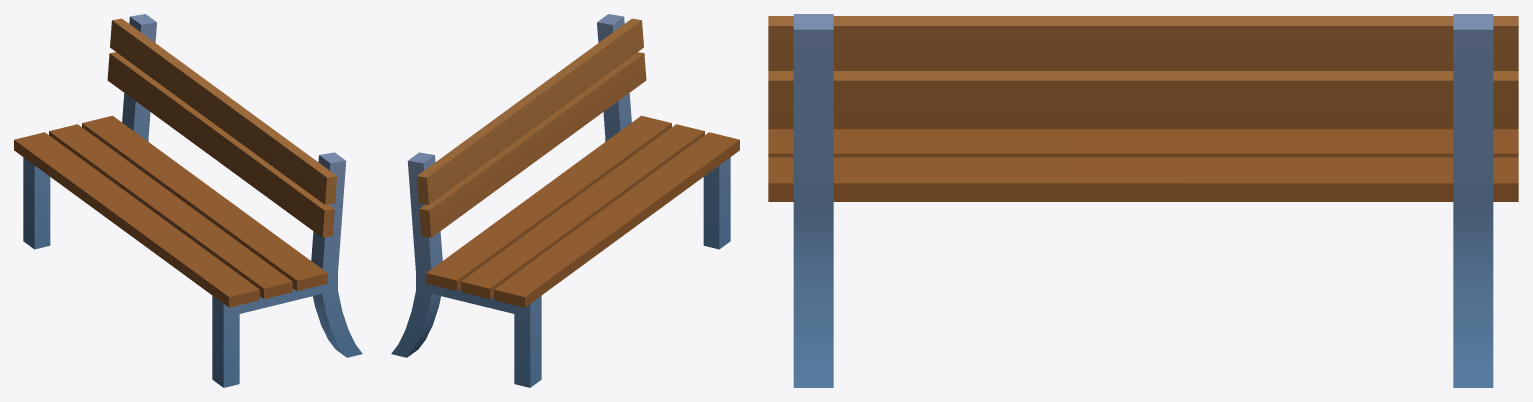
File: Bench_2_A.glb
3 renders of one model, left to right at view 1: azimuth 30°, elevation 25°; view 2: azimuth 150°, elevation 25°; view 3: azimuth 270°, elevation 25°, orthographic. The views are drawn at different scales.
Visible parts, largest first — view 1: Bench_2_A; view 2: Bench_2_A; view 3: Bench_2_A.
Part boxes in pixels (left/top/right/bottom): Bench_2_A: left=14, top=14, right=362, bottom=387; Bench_2_A: left=391, top=14, right=739, bottom=387; Bench_2_A: left=768, top=14, right=1518, bottom=387.
Bounding box in the file's own units: 0.6234 × 0.8385 × 1.65.
Materials: 2 (2 with a texture image).
